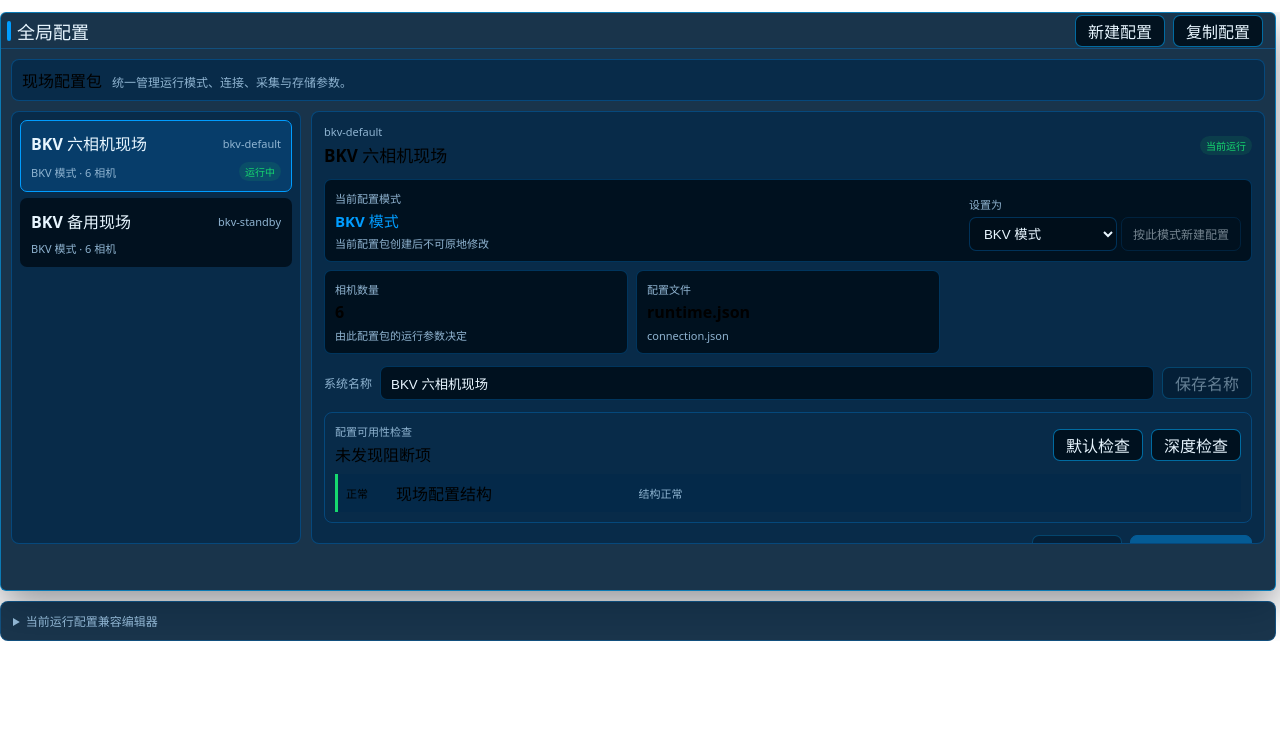
Test: GlobalConfigurationPanel › prevents activation while a non-active configuration has blocking errors
This screenshot has width=1280, height=732.
Expected: the element with test id "site-config-detail" is shown, [324,124,1252,544]
Click the button "BKV 备用现场 bkv-standby BKV 模式 · 6 相机".
click(81, 222)  # box [20,198,292,267]
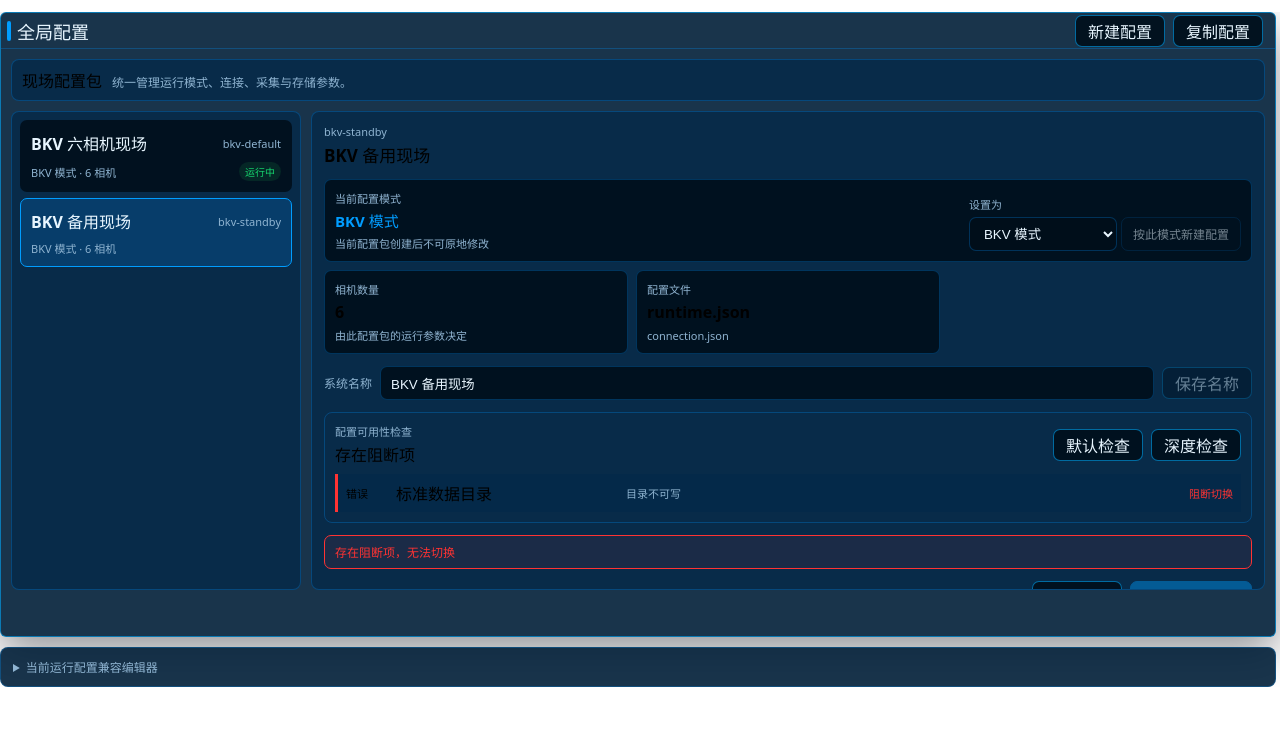
Result: the text "目录不可写" is shown at [626,486,681,501]
Result: the text "存在阻断项，无法切换" is shown at [324,535,1252,569]
